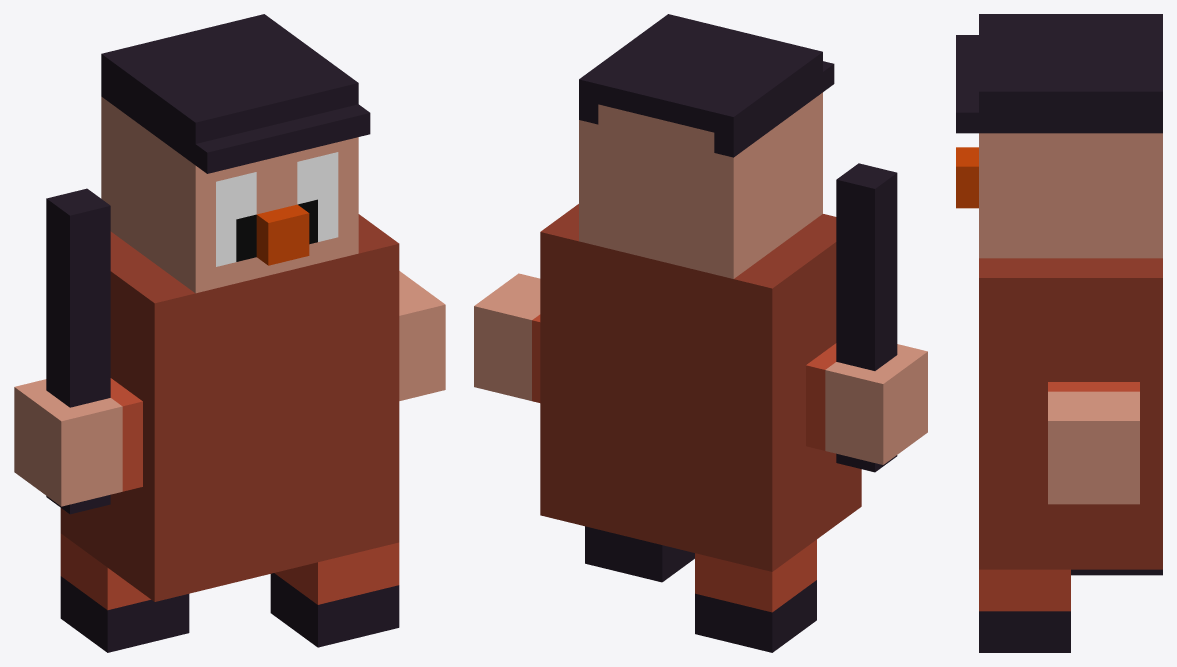
Rendered from Enemy_Run_1.glb.
3 views of the same model, side by side, from view 1: azimuth 30°, elevation 25°; view 2: azimuth 150°, elevation 25°; view 3: azimuth 270°, elevation 25° (orthographic). The views are drawn at different scales.
Visible parts, largest first — view 1: pl0; view 2: pl0; view 3: pl0.
Part boxes in pixels (box(x1,y1,x2,y2)): pl0: box(14, 14, 445, 652); pl0: box(474, 14, 927, 652); pl0: box(956, 14, 1162, 652).
Bounding box in the file's own units: 2 × 2.6 × 0.9.
1 material, 1 textured.
